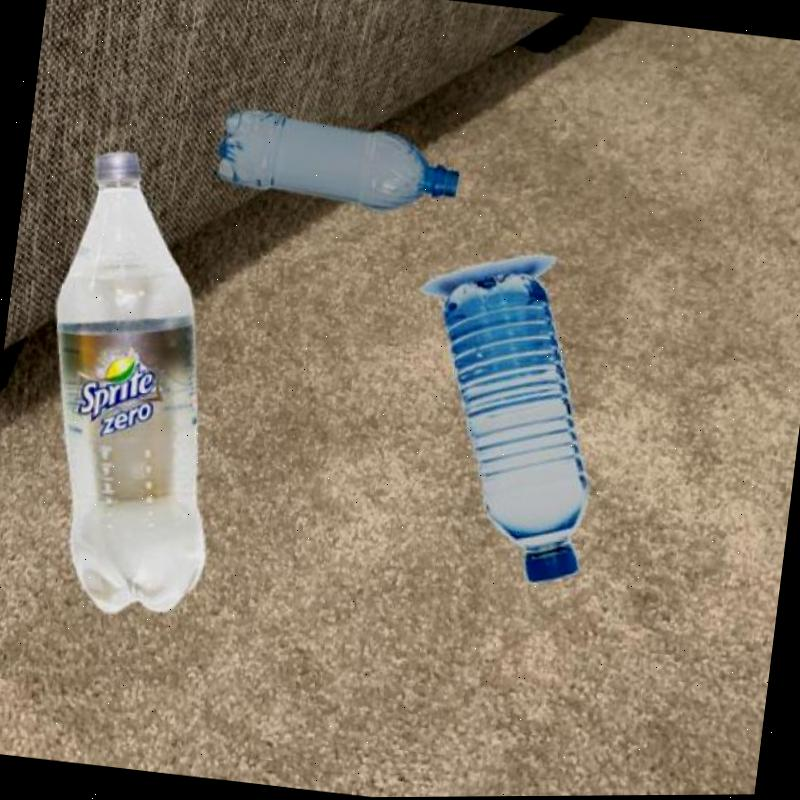botella: (0, 137, 253, 630), (408, 266, 614, 591), (215, 104, 466, 223)
